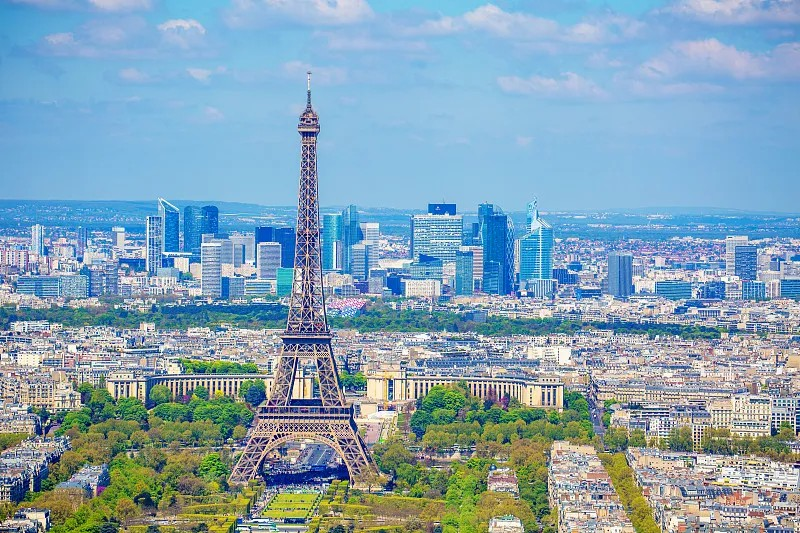Eiffel: (226, 71, 384, 494)
